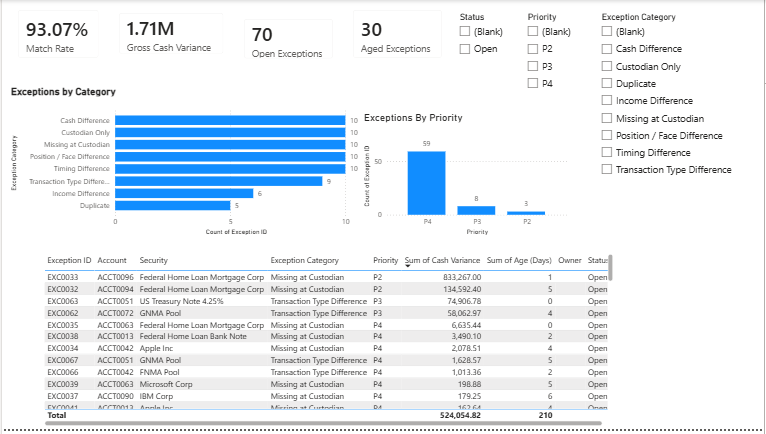

The page's visual inventory and layout, read from the dashboard file:
{"tool":"powerbi","page":{"name":"Page 1","canvas":[1280,720],"ordinal":0},"visuals":[{"type":"cardVisual","fields":{"Data":["ExceptionWorkQueue.Match Rate"]},"box":[10.1,0,169.7,114.2],"z":0},{"type":"cardVisual","fields":{"Data":["ExceptionWorkQueue.Open Exceptions"]},"box":[389.7,15.1,183.1,100.8],"z":1000},{"type":"cardVisual","fields":{"Data":["ExceptionWorkQueue.Gross Cash Variance"]},"box":[179.7,5,210,102.5],"z":2000},{"type":"cardVisual","fields":{"Data":["ExceptionWorkQueue.Aged Exceptions"]},"box":[572.8,0,183.1,114.2],"z":3000},{"type":"clusteredBarChart","title":"Exceptions by Category","fields":{"Category":["ExceptionWorkQueue.Exception Category"],"Y":["CountNonNull(ExceptionWorkQueue.Exception ID)"]},"box":[10.1,142.8,599.7,257],"z":4000},{"type":"clusteredColumnChart","title":"Exceptions By Priority","fields":{"Category":["ExceptionWorkQueue.Priority"],"Y":["CountNonNull(ExceptionWorkQueue.Exception ID)"]},"box":[603,186.5,351.1,213.3],"z":5000},{"type":"tableEx","fields":{"Values":["ExceptionWorkQueue.Exception ID","ExceptionWorkQueue.Account","ExceptionWorkQueue.Security","ExceptionWorkQueue.Exception Category","ExceptionWorkQueue.Priority","Sum(ExceptionWorkQueue.Cash Variance)","Sum(ExceptionWorkQueue.Age (Days))","ExceptionWorkQueue.Owner","ExceptionWorkQueue.Status"]},"box":[65.5,421.6,965.9,299],"z":6000},{"type":"slicer","fields":{"Values":["ExceptionWorkQueue.Status"]},"box":[755.9,15.1,178.1,112.5],"z":7000},{"type":"slicer","fields":{"Values":["ExceptionWorkQueue.Priority"]},"box":[870.1,15.1,99.1,149.5],"z":8000},{"type":"slicer","fields":{"Values":["ExceptionWorkQueue.Exception Category"]},"box":[994.4,15.1,238.5,299],"z":9000}]}

Visuals, with their boxes in screenshot pixels (x1, y1, x2, y2), scaled from the page's 1280x720 canvas onto the 766x434 screenshot:
cardVisual - ExceptionWorkQueue.Match Rate: 6,0,108,69
cardVisual - ExceptionWorkQueue.Open Exceptions: 233,9,343,70
cardVisual - ExceptionWorkQueue.Gross Cash Variance: 108,3,233,65
cardVisual - ExceptionWorkQueue.Aged Exceptions: 343,0,452,69
"Exceptions by Category" clusteredBarChart: 6,86,365,241
"Exceptions By Priority" clusteredColumnChart: 361,112,571,241
tableEx - ExceptionWorkQueue.Exception ID x ExceptionWorkQueue.Account: 39,254,617,433
slicer - ExceptionWorkQueue.Status: 452,9,559,77
slicer - ExceptionWorkQueue.Priority: 521,9,580,99
slicer - ExceptionWorkQueue.Exception Category: 595,9,738,189
